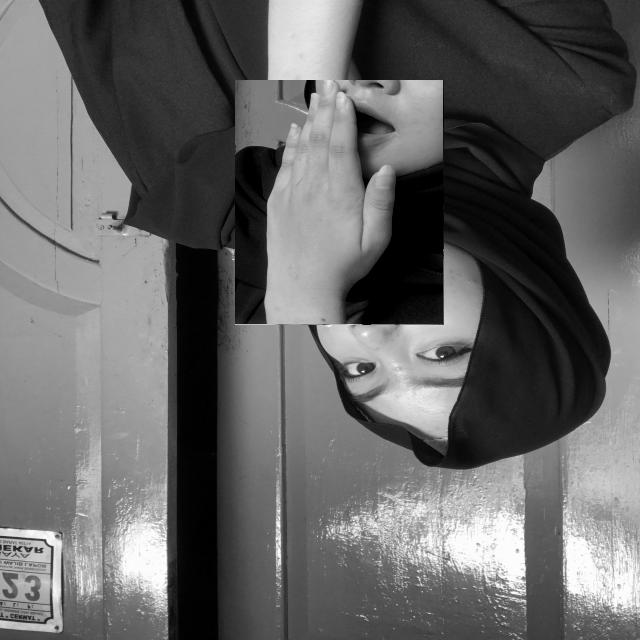ngantuk: (235, 80, 444, 325)
